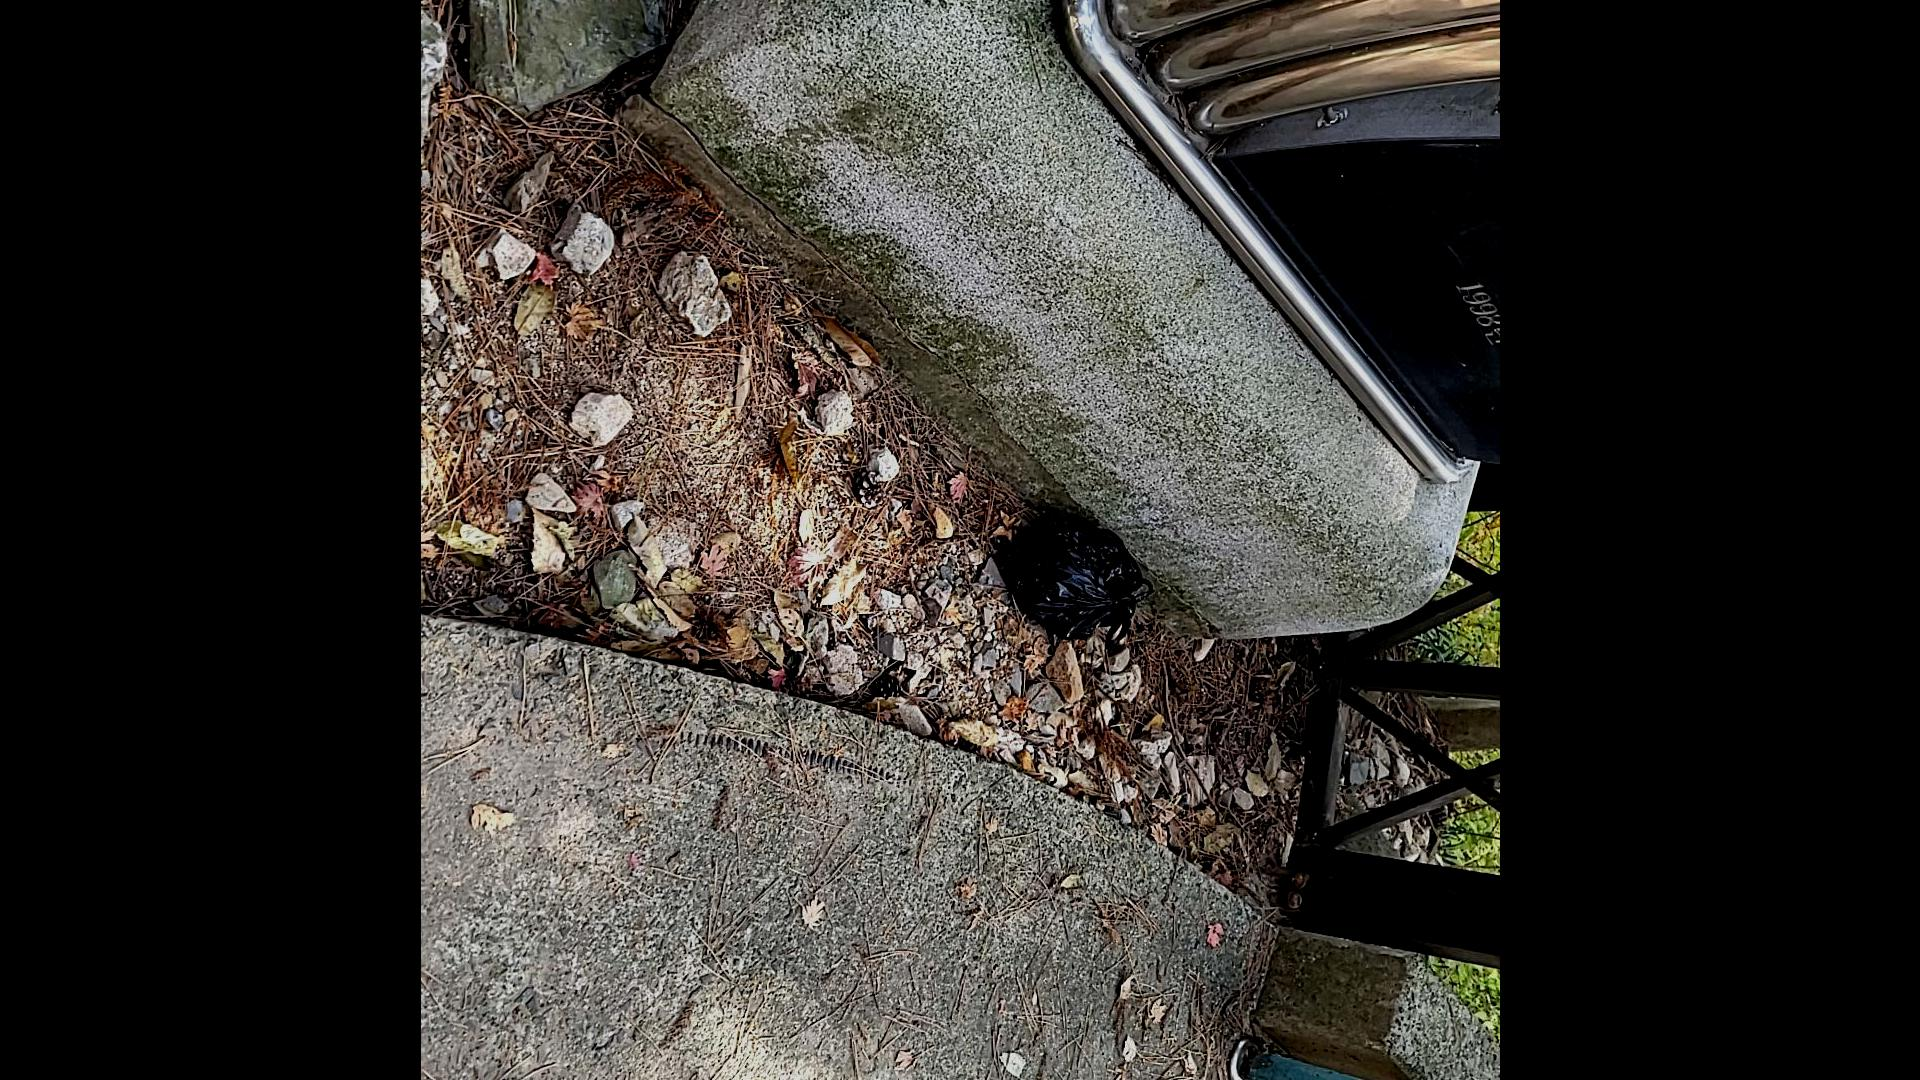black_bag: (996, 509, 1155, 651)
